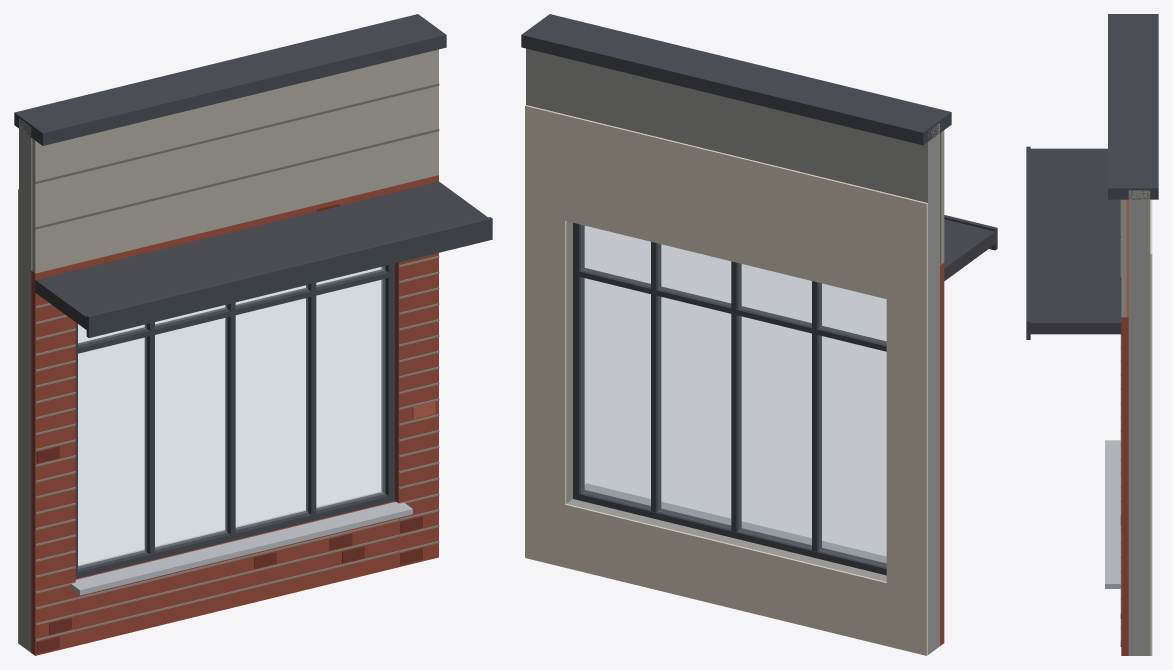
File: Mart_Wall_Window_Wide_4m.fbx
The picture shows the model from 3 angles, left to right: view 1: azimuth 30°, elevation 25°; view 2: azimuth 150°, elevation 25°; view 3: azimuth 270°, elevation 25°; orthographic projection. The views are drawn at different scales.
Parts seen in each view (by area): view 1: Mart_Wall_Window_Wide_4m; view 2: Mart_Wall_Window_Wide_4m; view 3: Mart_Wall_Window_Wide_4m.
Part boxes in pixels (x1=…): Mart_Wall_Window_Wide_4m: x1=14, y1=14, x2=492, y2=655; Mart_Wall_Window_Wide_4m: x1=521, y1=14, x2=997, y2=655; Mart_Wall_Window_Wide_4m: x1=1026, y1=14, x2=1158, y2=655.
Size of the model in its own units: 4 by 5 by 1.28.
2 materials, 1 textured.
